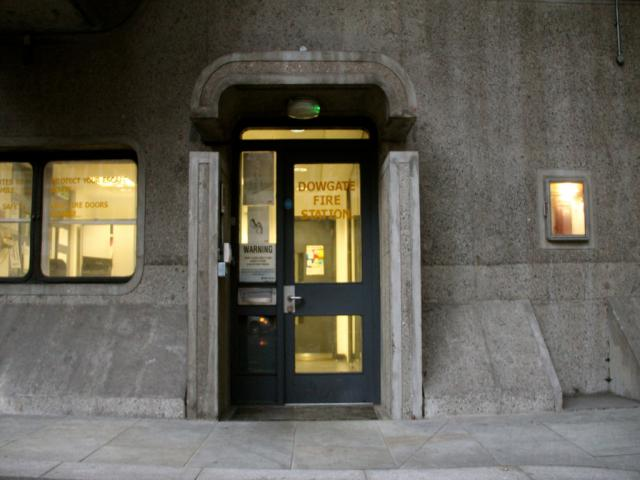Door-handle: (284, 286, 302, 314)
